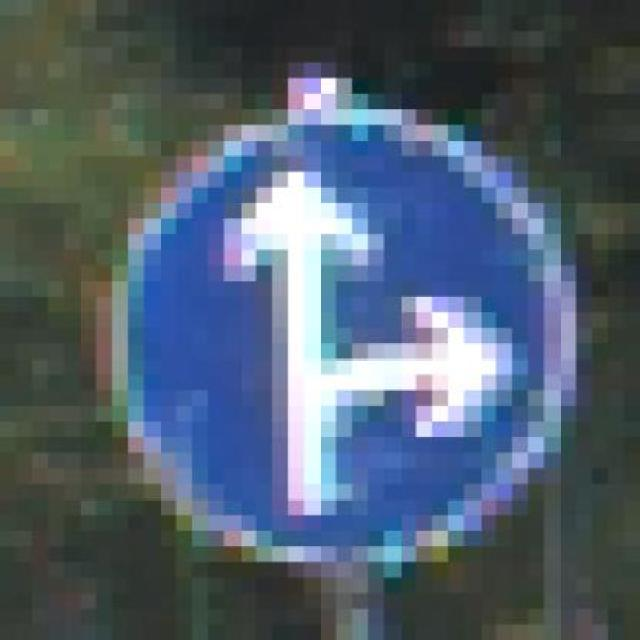Go Straight or Turn Right: (64, 93, 591, 562)
